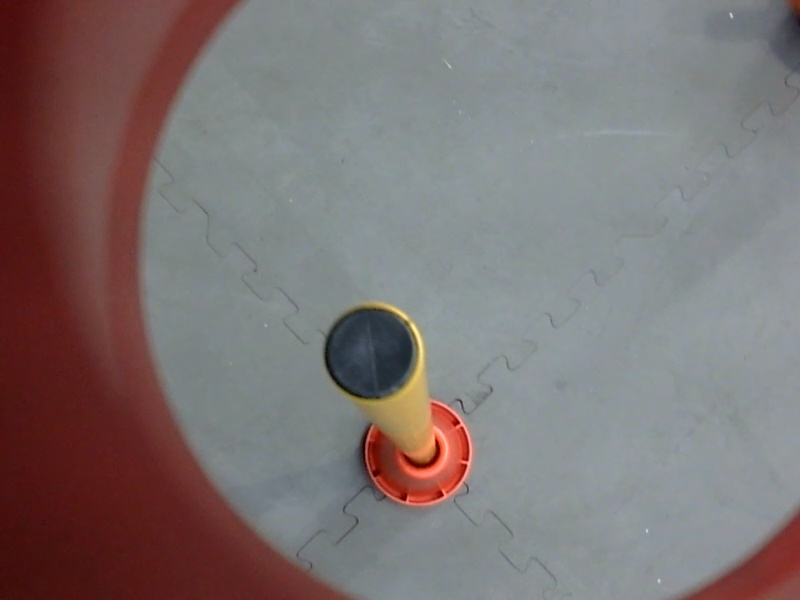tip: (320, 298, 427, 408)
